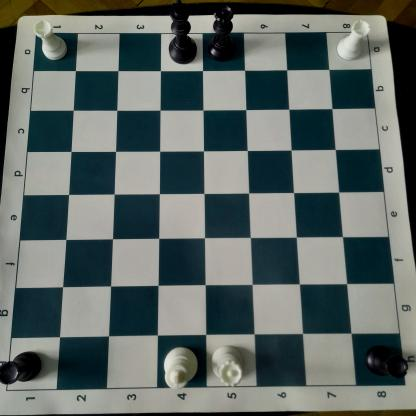black-king: (165, 0, 199, 65)
black-queen: (207, 3, 237, 63)
black-rook: (364, 344, 412, 384), (0, 349, 46, 388)
white-king: (161, 343, 201, 393)
white-queen: (208, 340, 250, 392)
white-rook: (30, 14, 70, 63), (335, 18, 372, 64)
